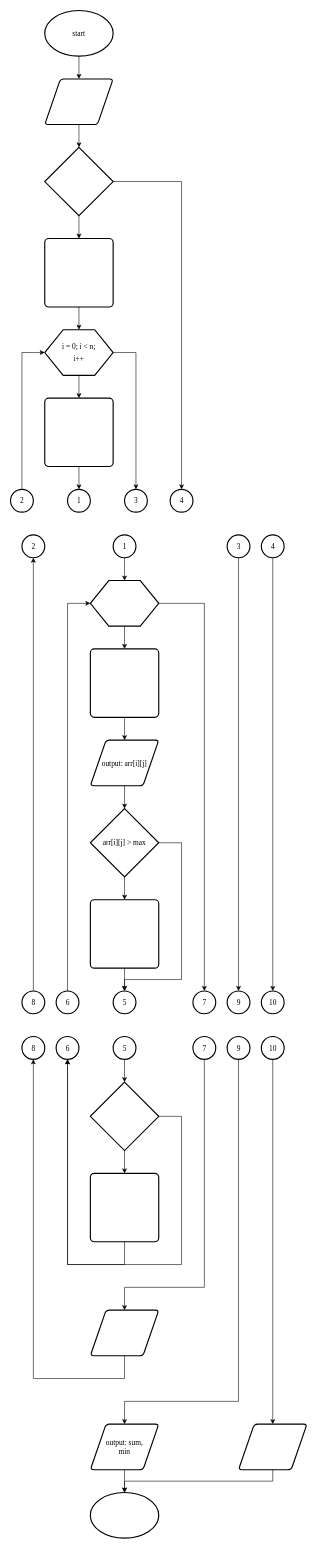
This 317x1548 diagram has some shape labels left out. Here are the shapes that lost their labels. From the top down, the centre of each, then its label:
At (x=78, y=101): "input n, m".
At (x=78, y=181): "n > 15 || m > 15".
At (x=78, y=272): "arr [ n ][ m ] sum = 0 min = INT_MAX".
At (x=78, y=432): "max = 0".
At (x=124, y=603): "j = 0 ; j < m ; j ++".
At (x=124, y=683): "arr [ i ][ j ] = rand() % 10 sum += array [ i ][ j ]".
At (x=124, y=933): "max = arr [ i ][ j ]".
At (x=124, y=1116): "arr [ i ][ j ] < min".
At (x=124, y=1207): "min = arr [ i ][ j ]".
At (x=124, y=1332): "output: max".
At (x=272, y=1446): "output: n or m > 15".
At (x=124, y=1515): "end".
